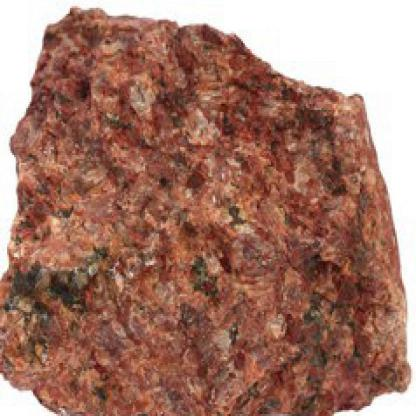Igneous_Granite: (2, 6, 409, 414)
